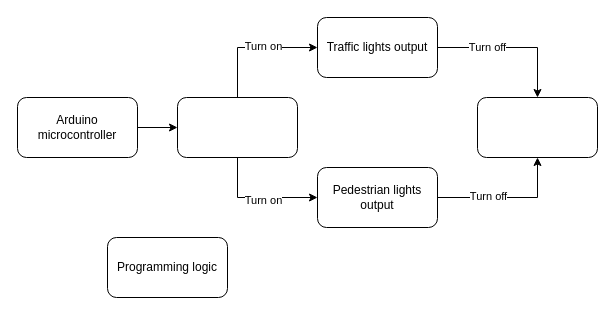
Image size: 615x315. Some labels were removed from this diagram. The shapes that lost their labels are listed below. From the top down, each one's centre as x and y in pixels, then its label:
At (237,127): "Button input".
At (537,127): "Timer".
